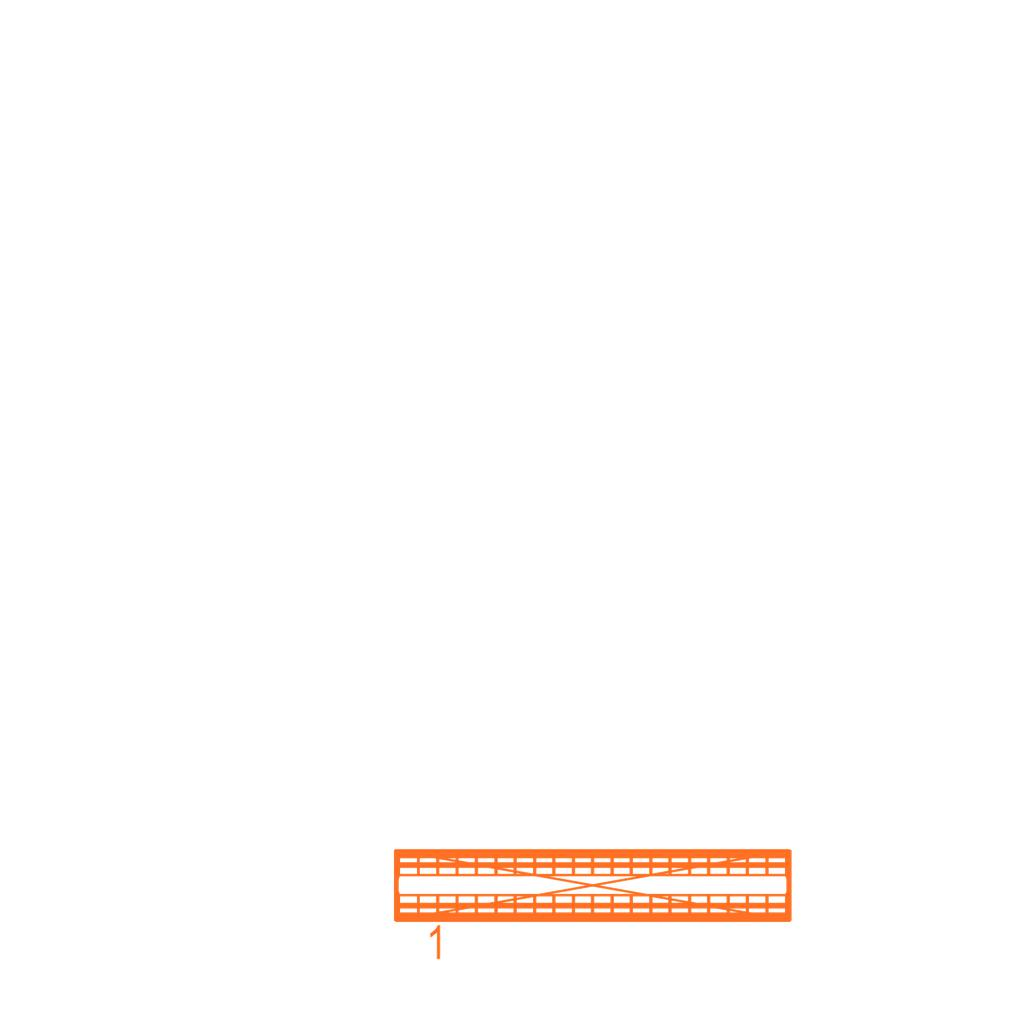Buero_Pendelleuchten_LED: (387, 839, 800, 969)
